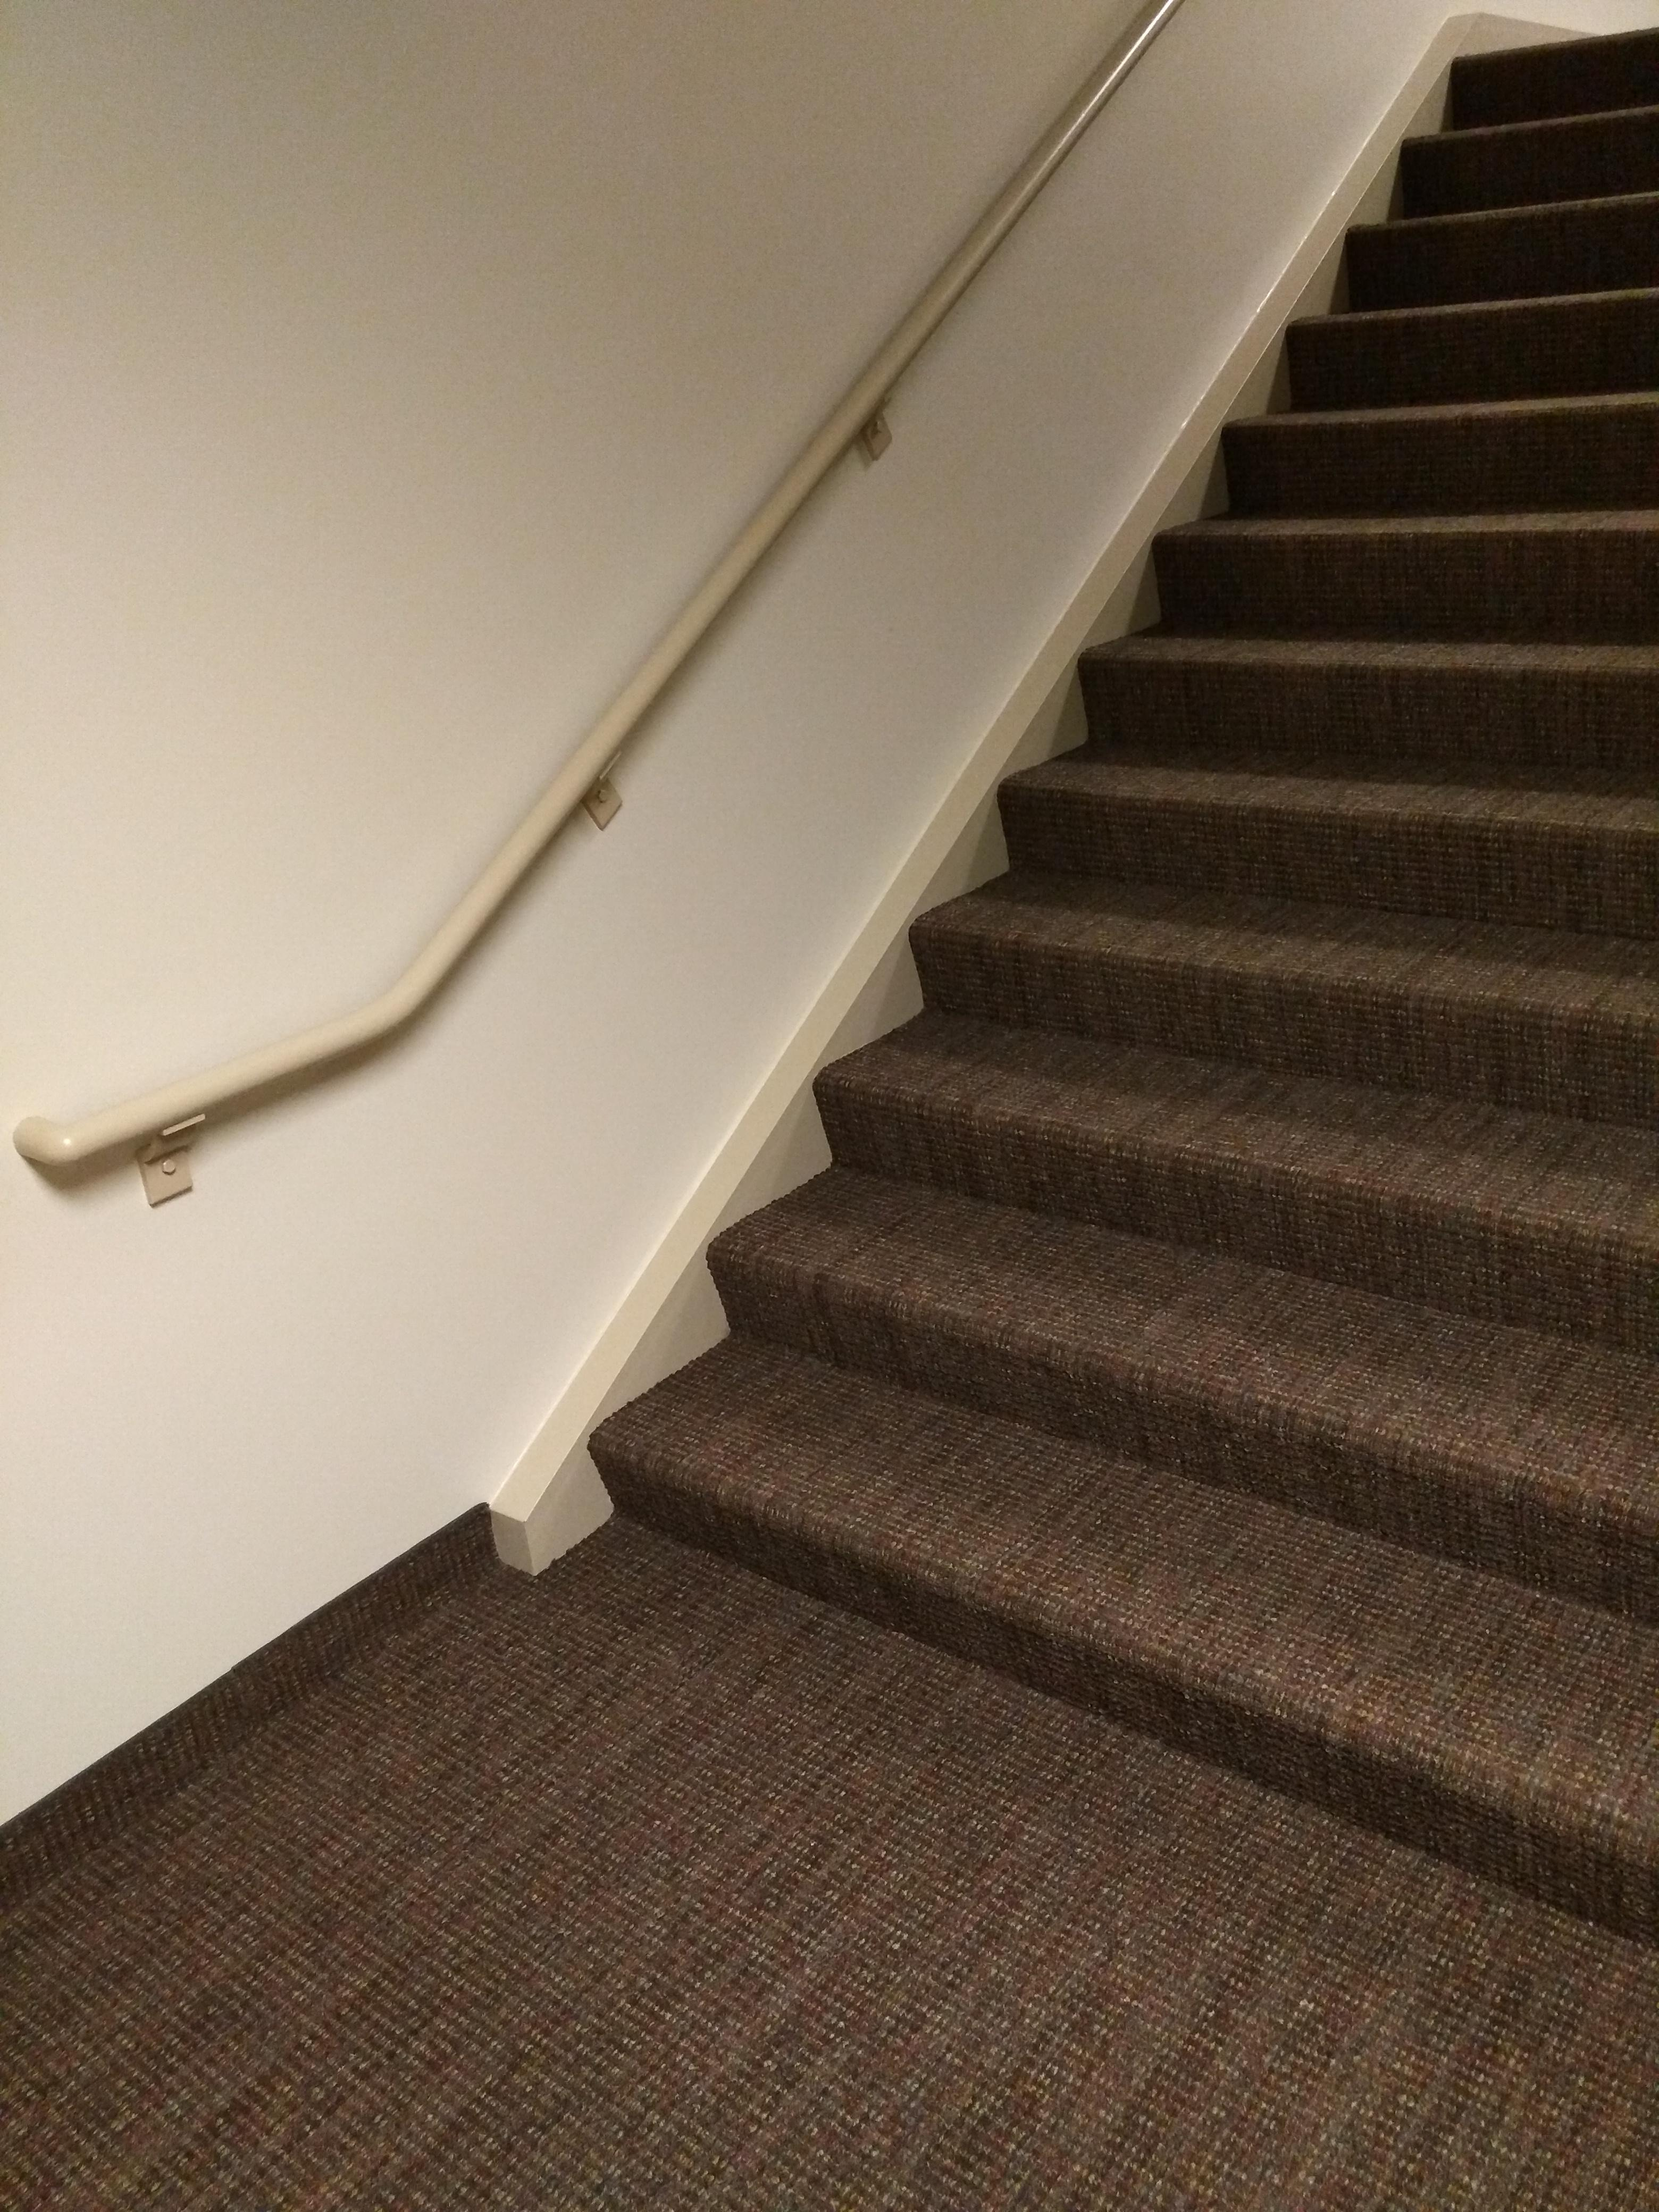stairs_up: (573, 9, 1642, 1989)
